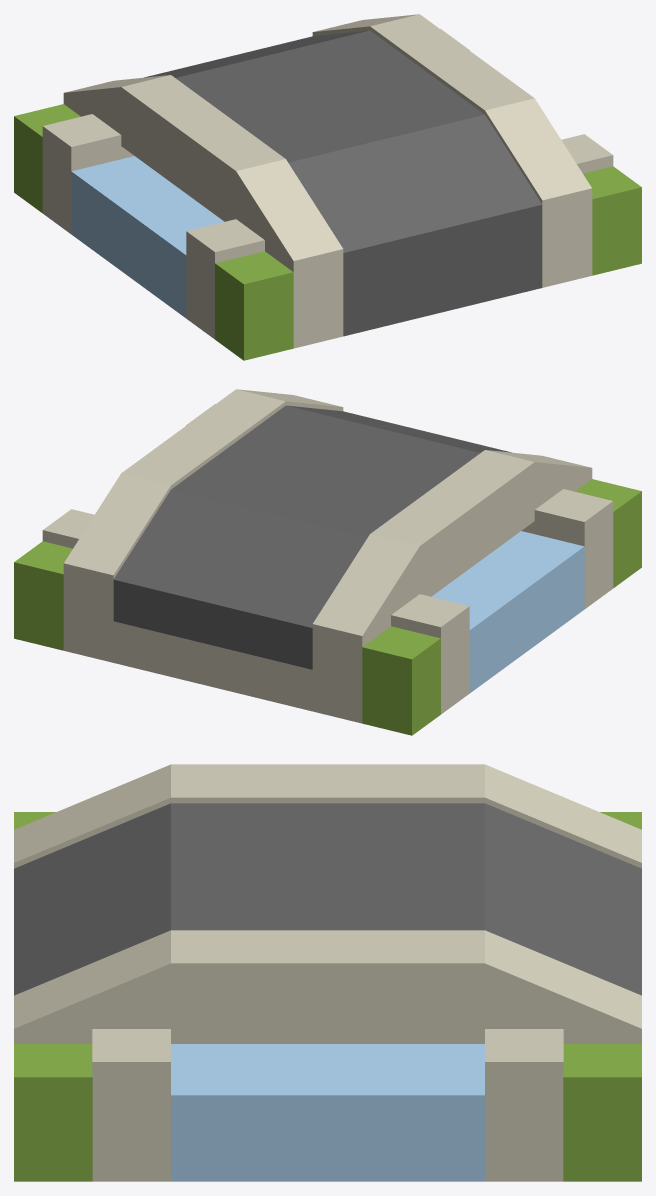
The model's file is tile111.fbx.
3 renders of one model, top to bottom at view 1: azimuth 30°, elevation 25°; view 2: azimuth 150°, elevation 25°; view 3: azimuth 270°, elevation 25°, orthographic. The views are drawn at different scales.
Visible parts, largest first — view 1: tile111; view 2: tile111; view 3: tile111.
Part boxes in pixels (x1,y1,x2,y2): tile111: (14,14,641,360); tile111: (14,389,641,735); tile111: (14,764,641,1181).
Size of the model in its own units: 10 by 3.25 by 10.
